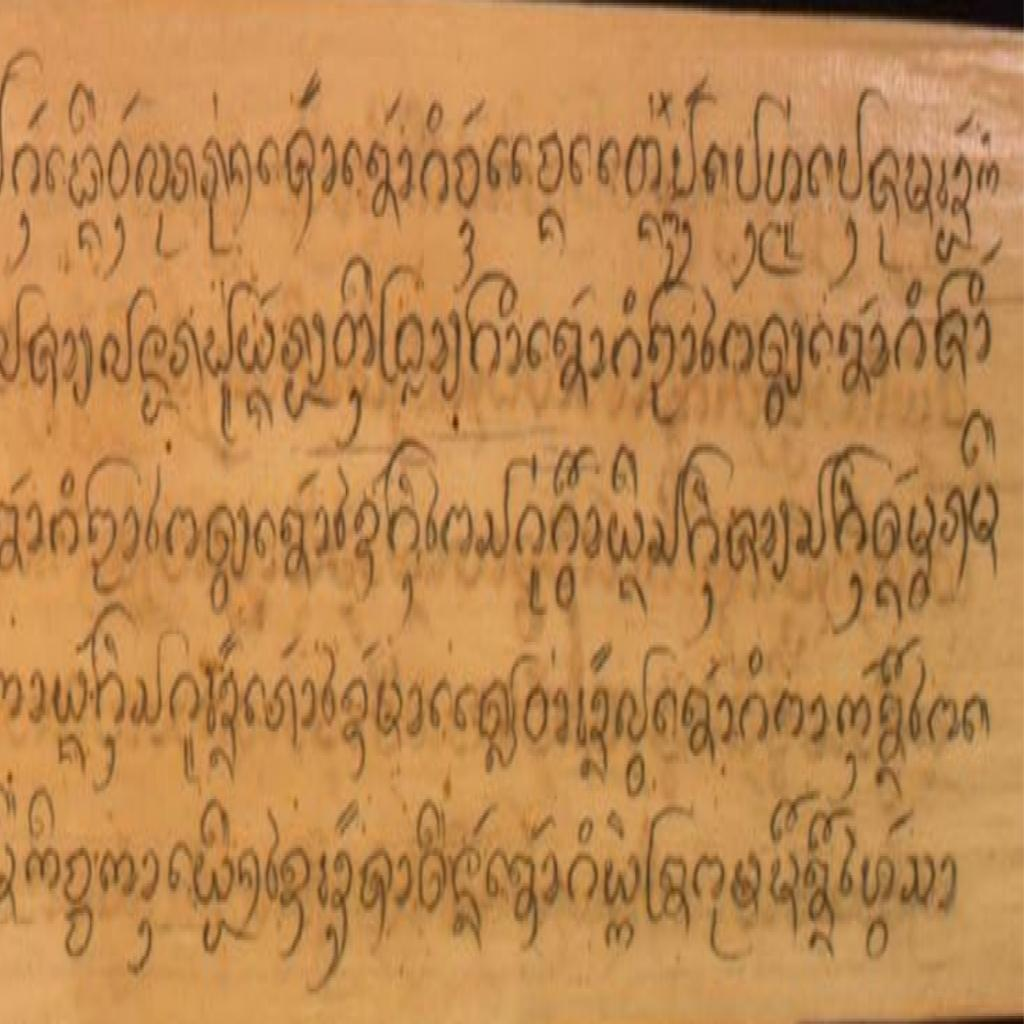LN009: (933, 267, 969, 383)
LN025: (734, 104, 765, 210)
